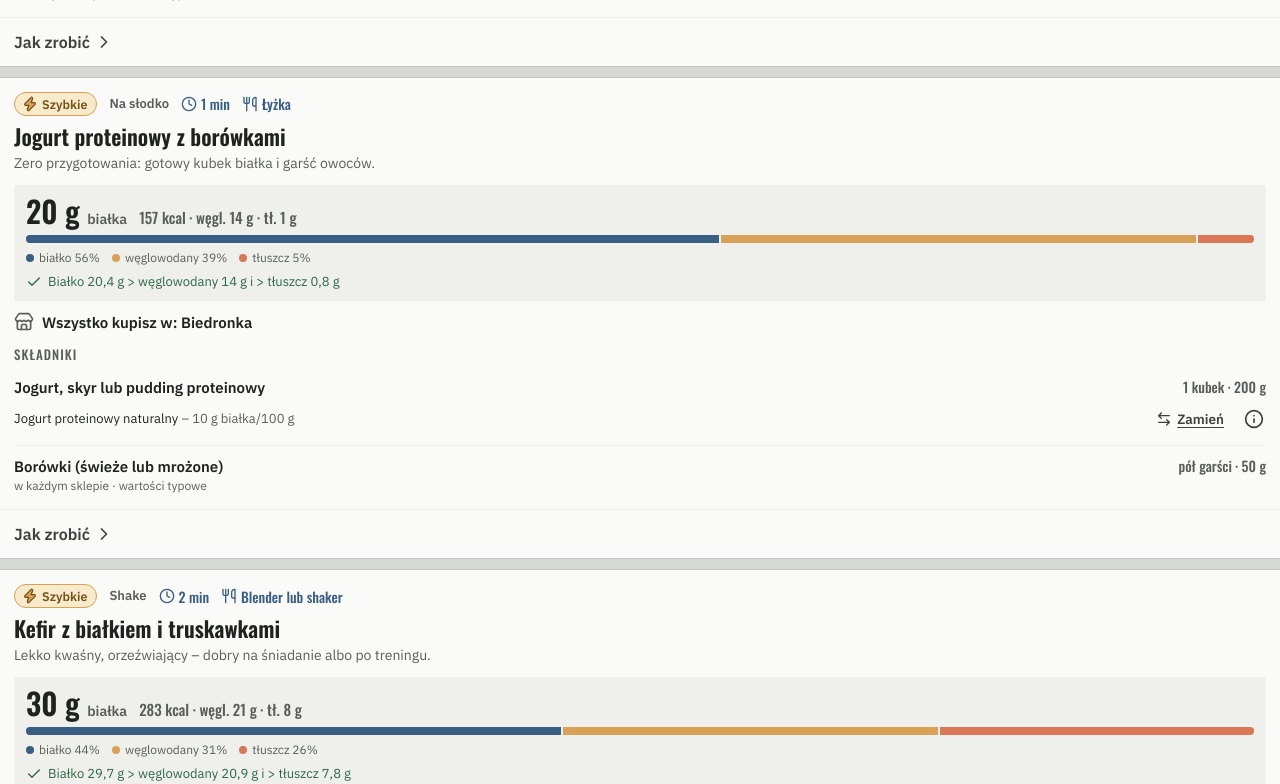
Przepisy › zamiana, która łamie zasadę, jest dozwolona, ale oznaczona na czerwono
This screenshot has width=1280, height=784.
(page scrolled)
Click the button with aria-label "Zamień: Jogurt, skyr lub pudding proteinowy" at (1190, 419), box left=1148, top=397, right=1232, bottom=441
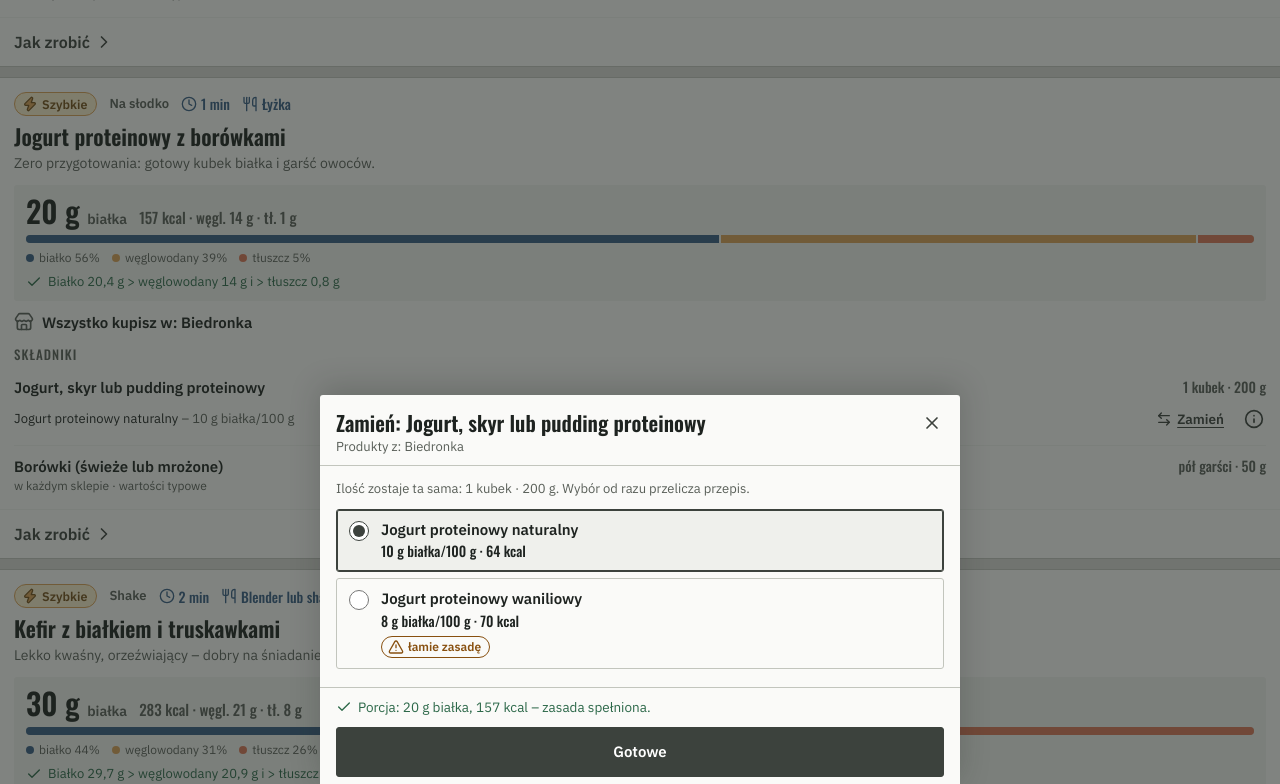
Click the radio button labelled "waniliowy" at (359, 600), box left=349, top=590, right=369, bottom=610
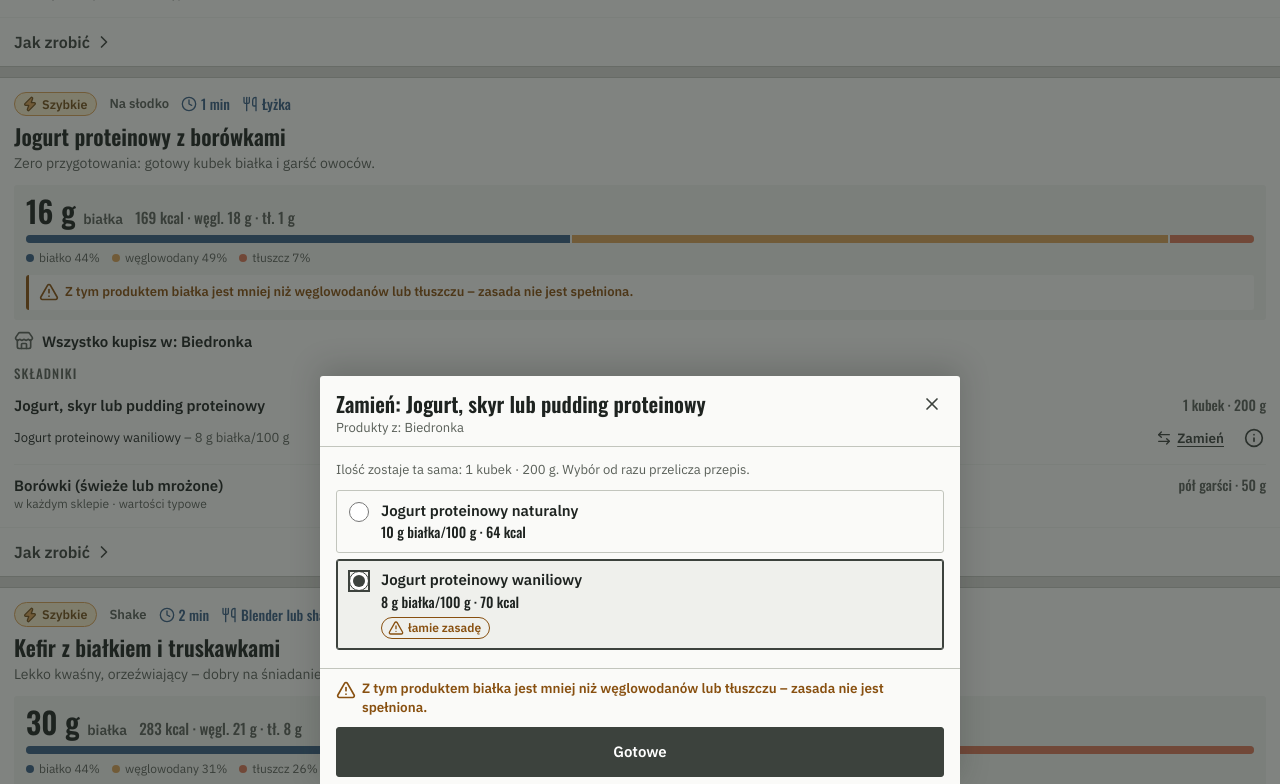
Expected: the message shows "zasada nie jest spełniona", left=362, top=679, right=884, bottom=716
Expected: the message below "169 kcal · węgl. 18 g · tł. 1 g" shows "zasada nie jest spełniona", left=65, top=283, right=633, bottom=300
Click the button "Gotowe" at (640, 752), box left=336, top=726, right=944, bottom=777
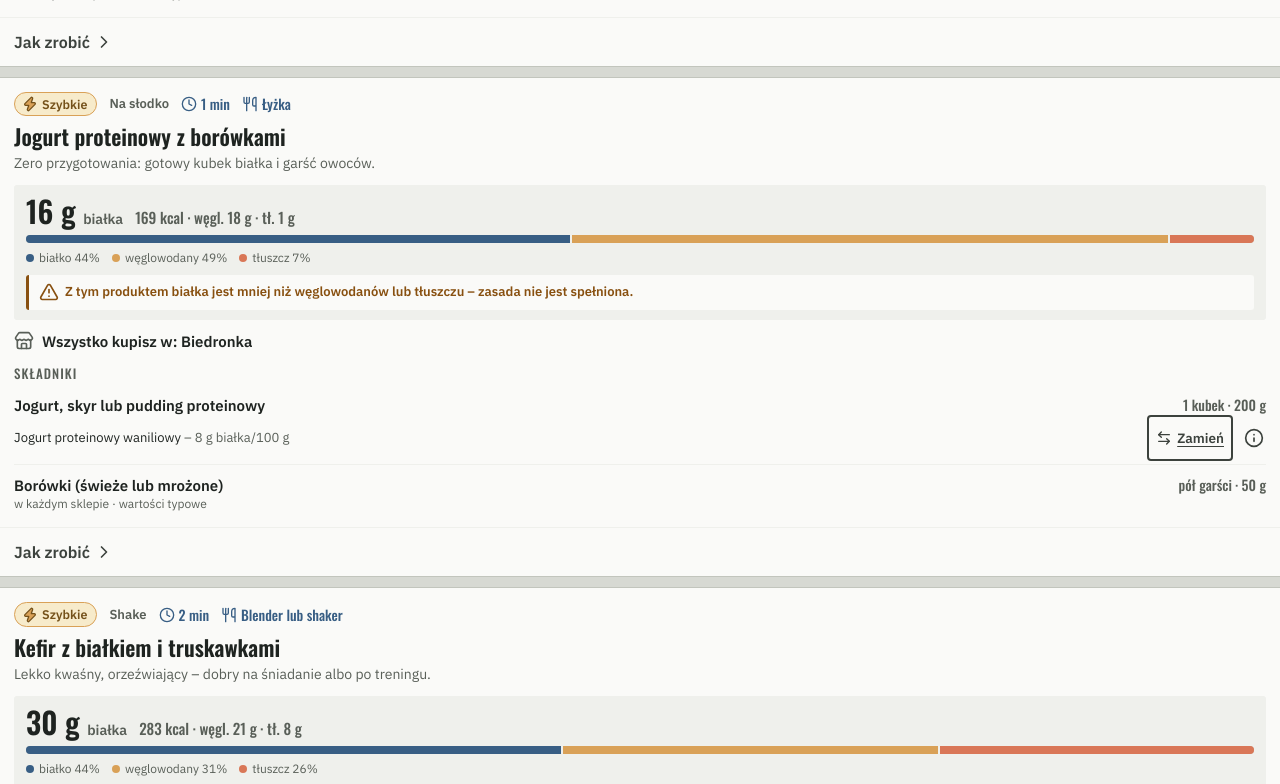
Expected: the message shows "zasada nie jest spełniona", left=65, top=283, right=633, bottom=300
Expected: the button named "Szczegóły: Jogurt proteinowy waniliowy" is shown, left=1232, top=416, right=1276, bottom=460
// Powrót do produktu, który trzyma zasadę, zdejmuje ostrzeżenie.
Click the button with aria-label "Zamień: Jogurt, skyr lub pudding proteinowy" at (1190, 438), box left=1148, top=416, right=1232, bottom=460
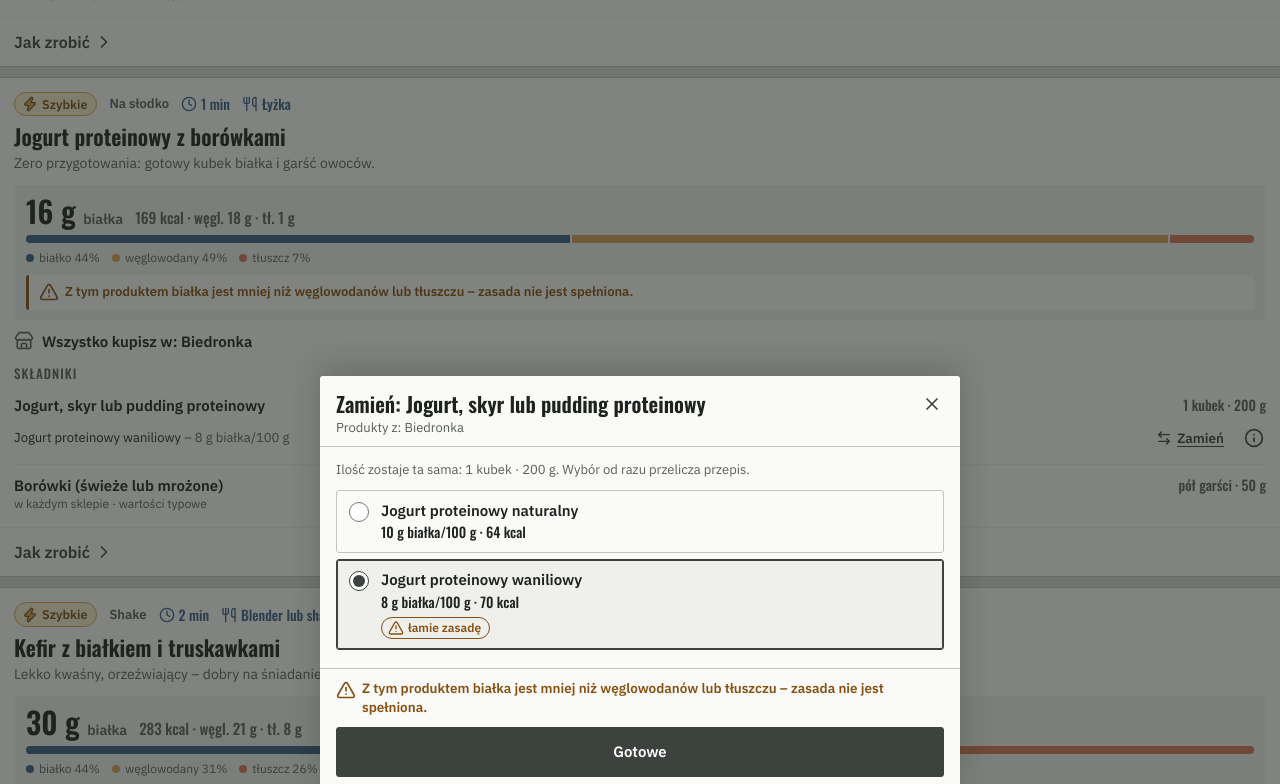
Click the radio button labelled "Jogurt proteinowy naturalny 10 g białka/100 g · 64 kcal" at (359, 512), box left=349, top=502, right=369, bottom=522
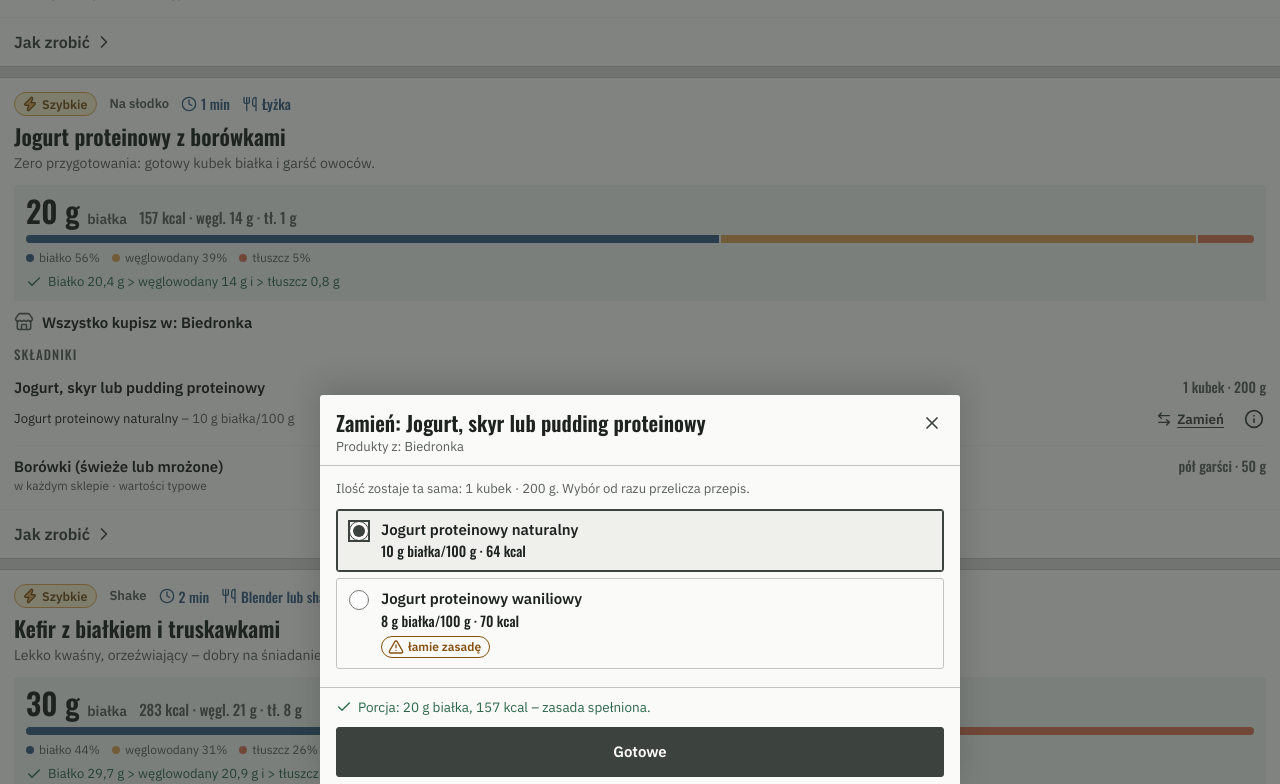
Expected: the message shows "zasada spełniona", left=358, top=698, right=651, bottom=716
Click the button named "Zamknij zamianę" at (932, 423), box left=910, top=401, right=954, bottom=445
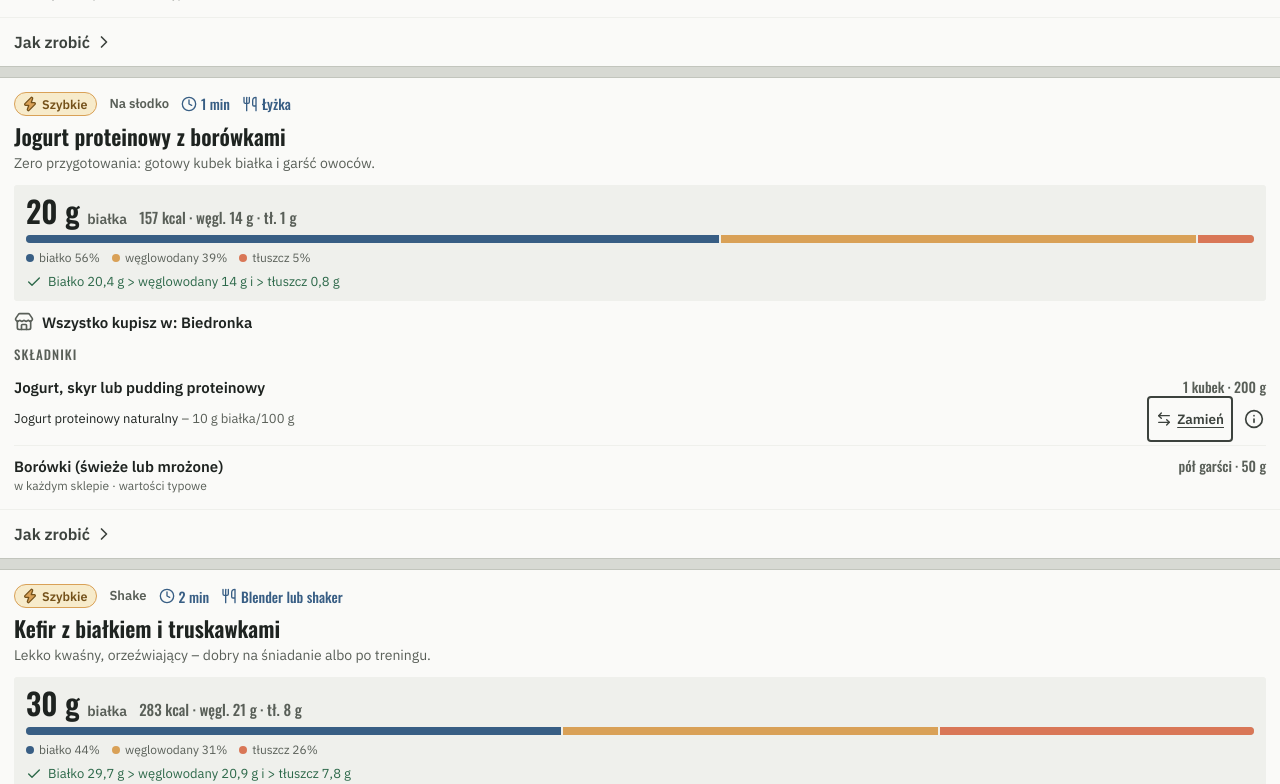
Expected: the message "Porcja: 20 g białka, 157 kcal – zasada spełniona." is gone
